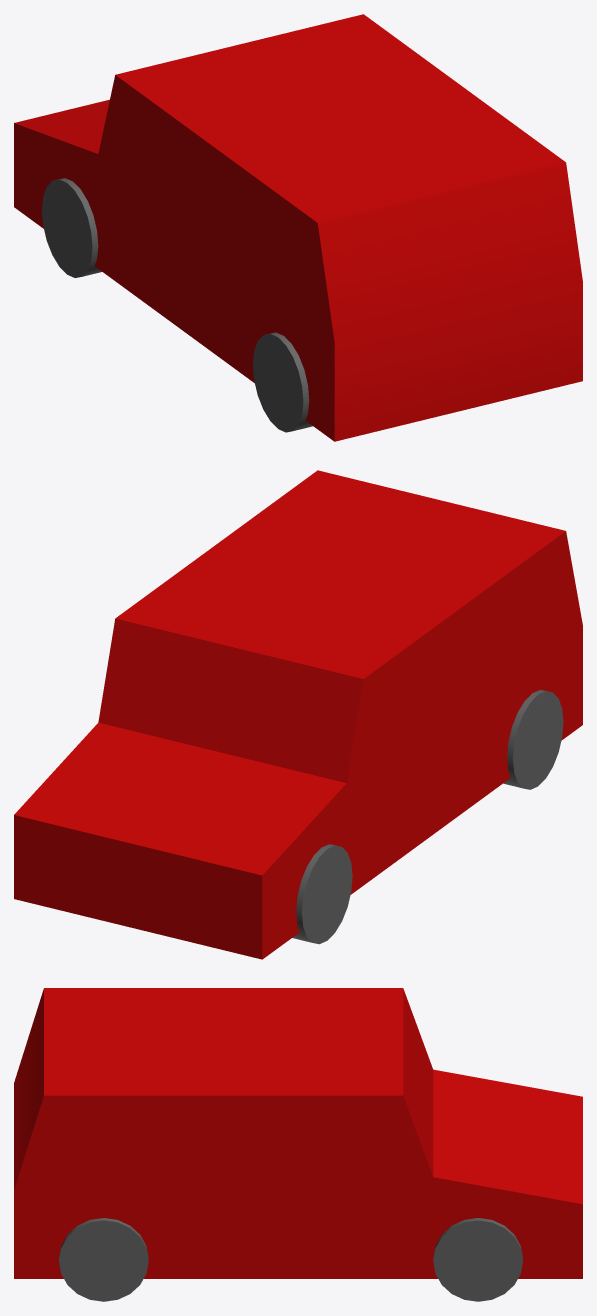
Rendered from Car.glb.
3 renders of one model, top to bottom at view 1: azimuth 30°, elevation 25°; view 2: azimuth 150°, elevation 25°; view 3: azimuth 270°, elevation 25°, orthographic. The views are drawn at different scales.
Parts seen in each view (by area): view 1: 車体, タイヤ; view 2: 車体, タイヤ; view 3: 車体, タイヤ.
Part boxes in pixels (<box>): 車体: <box>14,14,582,441</box>; タイヤ: <box>42,178,312,432</box>; 車体: <box>14,470,582,959</box>; タイヤ: <box>292,690,563,944</box>; 車体: <box>14,988,582,1278</box>; タイヤ: <box>59,1218,522,1301</box>.
Size of the model in its own units: 1.78 by 1.5 by 3.8.
